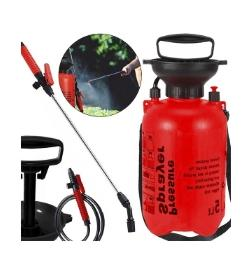PULVERISATEUR: (0, 19, 238, 259)
